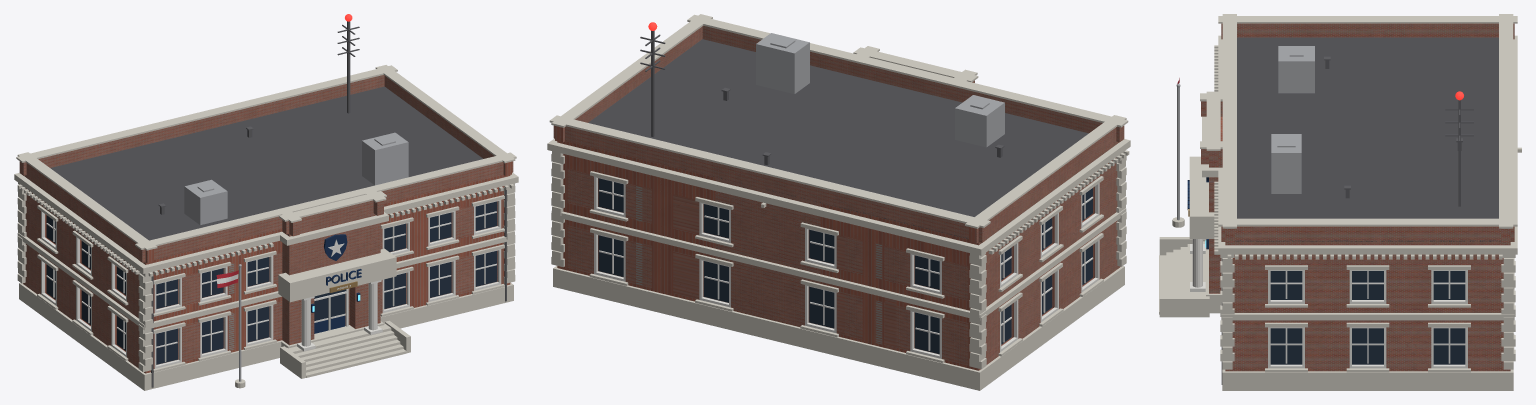
File: police-station.glb
3 renders of one model, left to right at view 1: azimuth 30°, elevation 25°; view 2: azimuth 150°, elevation 25°; view 3: azimuth 270°, elevation 25°, orthographic. The views are drawn at different scales.
Parts seen in each view (by area): view 1: Limestone, RoofTar, Brick, BrickSide, GlassDark, WhiteTrim, Metal, DarkMetal, NavyBlue; view 2: Brick, Limestone, RoofTar, BrickSide, GlassDark, WhiteTrim, Metal, DarkMetal; view 3: RoofTar, Limestone, BrickSide, GlassDark, WhiteTrim, Metal, DarkMetal.
Boxes of the visible parts, x1=… form: Limestone: x1=14, y1=65, x2=518, y2=390; RoofTar: x1=50, y1=86, x2=482, y2=258; Brick: x1=23, y1=75, x2=513, y2=373; BrickSide: x1=19, y1=76, x2=505, y2=373; GlassDark: x1=46, y1=201, x2=497, y2=364; WhiteTrim: x1=41, y1=200, x2=501, y2=368; Metal: x1=184, y1=132, x2=408, y2=381; DarkMetal: x1=151, y1=21, x2=506, y2=387; NavyBlue: x1=311, y1=234, x2=361, y2=333; Brick: x1=553, y1=25, x2=1119, y2=370; Limestone: x1=547, y1=14, x2=1130, y2=390; RoofTar: x1=588, y1=39, x2=1088, y2=239; BrickSide: x1=563, y1=26, x2=1124, y2=370; GlassDark: x1=598, y1=178, x2=1092, y2=353; WhiteTrim: x1=594, y1=176, x2=1099, y2=358; Metal: x1=756, y1=33, x2=1004, y2=147; DarkMetal: x1=640, y1=30, x2=1004, y2=165; RoofTar: x1=1234, y1=37, x2=1500, y2=241; Limestone: x1=1159, y1=14, x2=1521, y2=390; BrickSide: x1=1201, y1=23, x2=1514, y2=371; GlassDark: x1=1270, y1=271, x2=1465, y2=364; WhiteTrim: x1=1187, y1=177, x2=1467, y2=368; Metal: x1=1176, y1=46, x2=1314, y2=220; DarkMetal: x1=1221, y1=56, x2=1473, y2=384.
Size of the model in its own units: 25.1 by 14.27 by 17.8.
14 materials, 2 textured.
